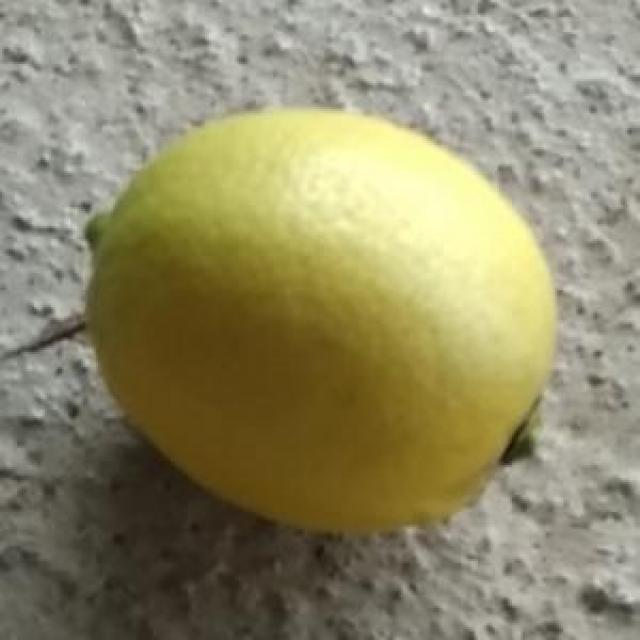lemon: (78, 105, 562, 543)
